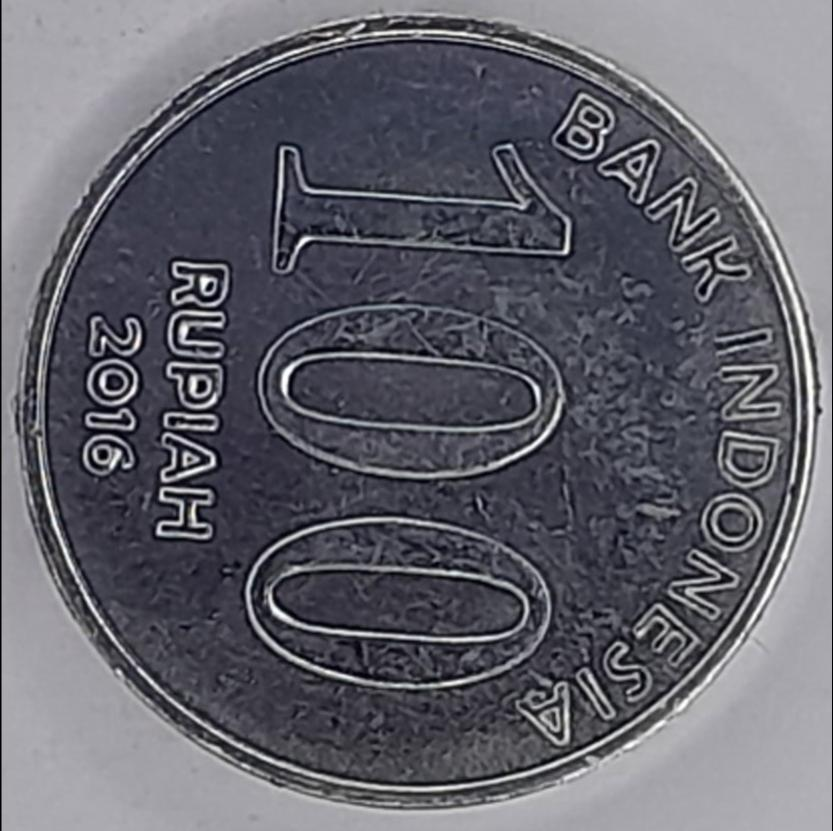coin_100_e2016: (9, 6, 828, 813)
